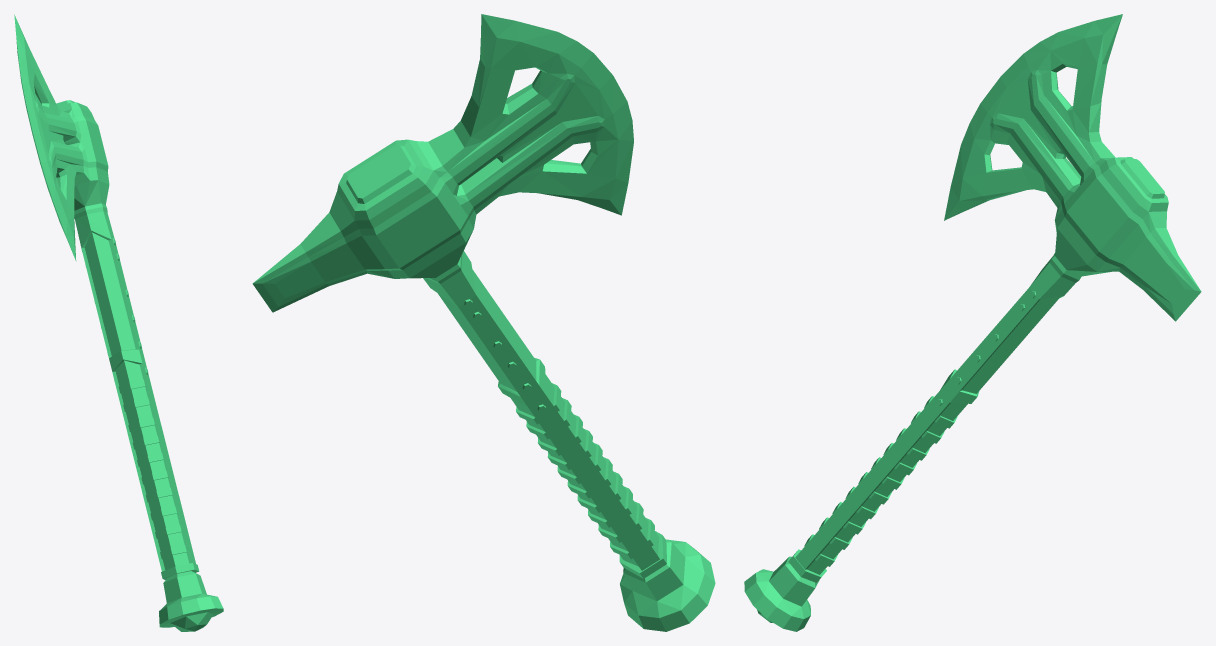
The model's file is axe.glb.
3 renders of one model, left to right at view 1: azimuth 30°, elevation 25°; view 2: azimuth 150°, elevation 25°; view 3: azimuth 270°, elevation 25°, orthographic. The views are drawn at different scales.
Visible parts, largest first — view 1: dwarvenhandaxe; view 2: dwarvenhandaxe; view 3: dwarvenhandaxe.
Boxes of the visible parts, x1,y1,x2,y2 form: dwarvenhandaxe: (14, 14, 223, 631); dwarvenhandaxe: (252, 14, 715, 631); dwarvenhandaxe: (744, 14, 1201, 631).
Bounding box in the file's own units: 1.16 × 3.75 × 2.6.
